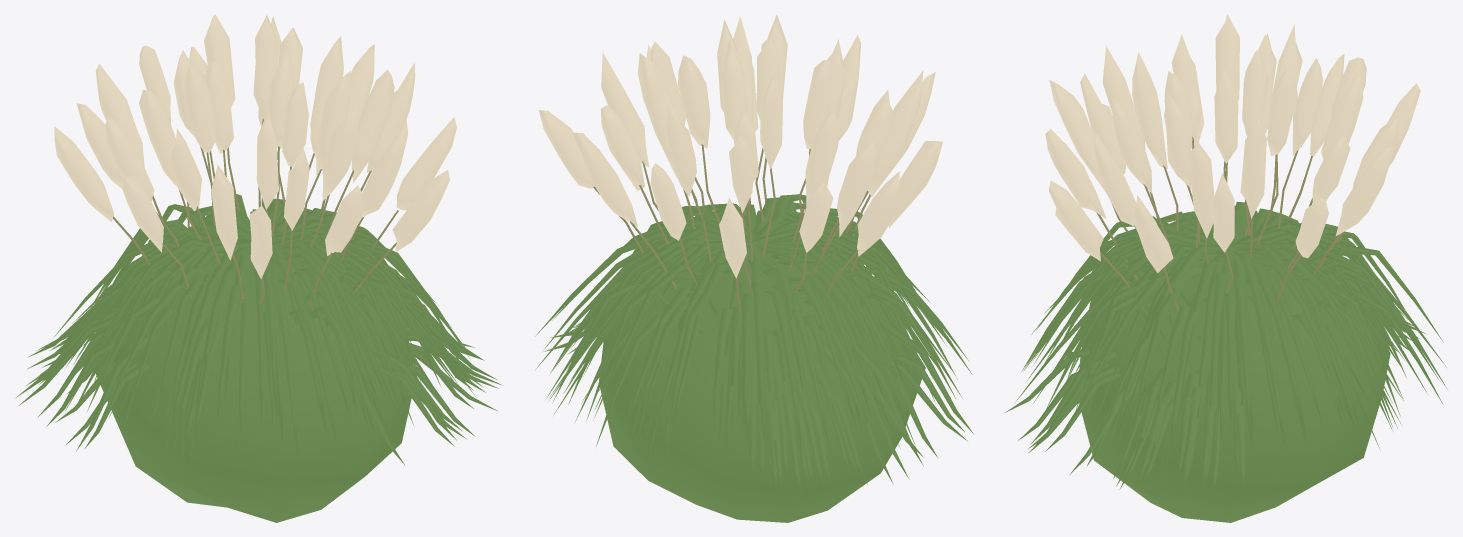
The model's file is Blender_PampasGrass_1.glb.
3 renders of one model, left to right at view 1: azimuth 30°, elevation 25°; view 2: azimuth 150°, elevation 25°; view 3: azimuth 270°, elevation 25°, orthographic. The views are drawn at different scales.
Parts seen in each view (by area): view 1: Blender_PampasGrass_1; view 2: Blender_PampasGrass_1; view 3: Blender_PampasGrass_1.
Boxes of the visible parts, x1,y1,x2,y2 form: Blender_PampasGrass_1: (16,14,503,522); Blender_PampasGrass_1: (535,14,973,522); Blender_PampasGrass_1: (1005,14,1447,522).
Bounding box in the file's own units: 3.87 × 4.07 × 3.6.
